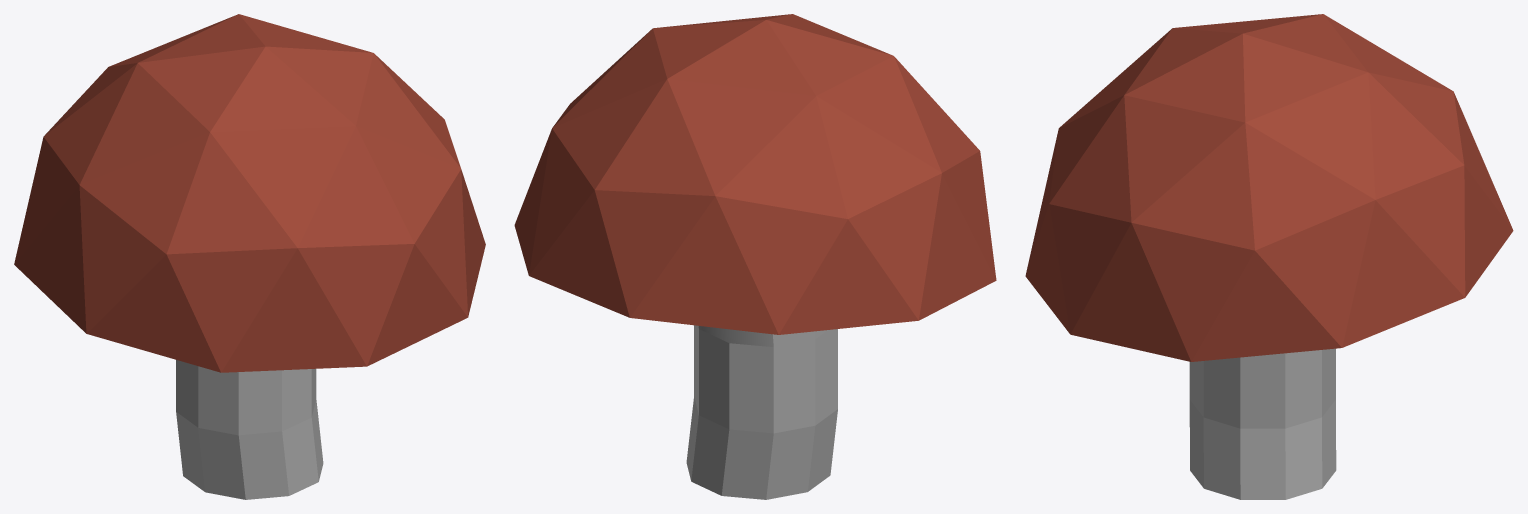
Rendered from JamurMerah.fbx.
3 views of the same model, side by side, from view 1: azimuth 30°, elevation 25°; view 2: azimuth 150°, elevation 25°; view 3: azimuth 270°, elevation 25° (orthographic). The views are drawn at different scales.
Visible parts, largest first — view 1: Mushroom_1a; view 2: Mushroom_1a; view 3: Mushroom_1a.
Boxes of the visible parts, bbox=[...] form: Mushroom_1a: bbox=[14, 14, 485, 499]; Mushroom_1a: bbox=[514, 14, 996, 499]; Mushroom_1a: bbox=[1025, 14, 1513, 499].
Bounding box in the file's own units: 37.53 × 38.69 × 39.06.
